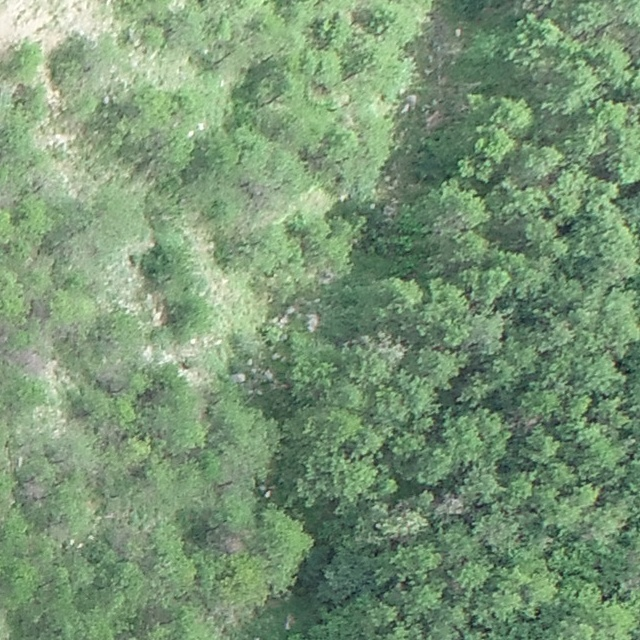unhealthy: (380, 498, 427, 541), (433, 490, 467, 517), (14, 347, 45, 373), (20, 477, 48, 502), (218, 532, 246, 555)
